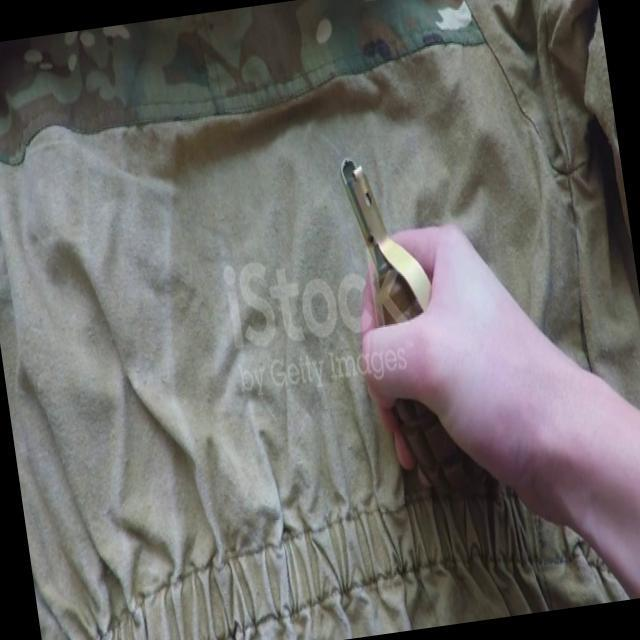grenade: (333, 139, 498, 516)
